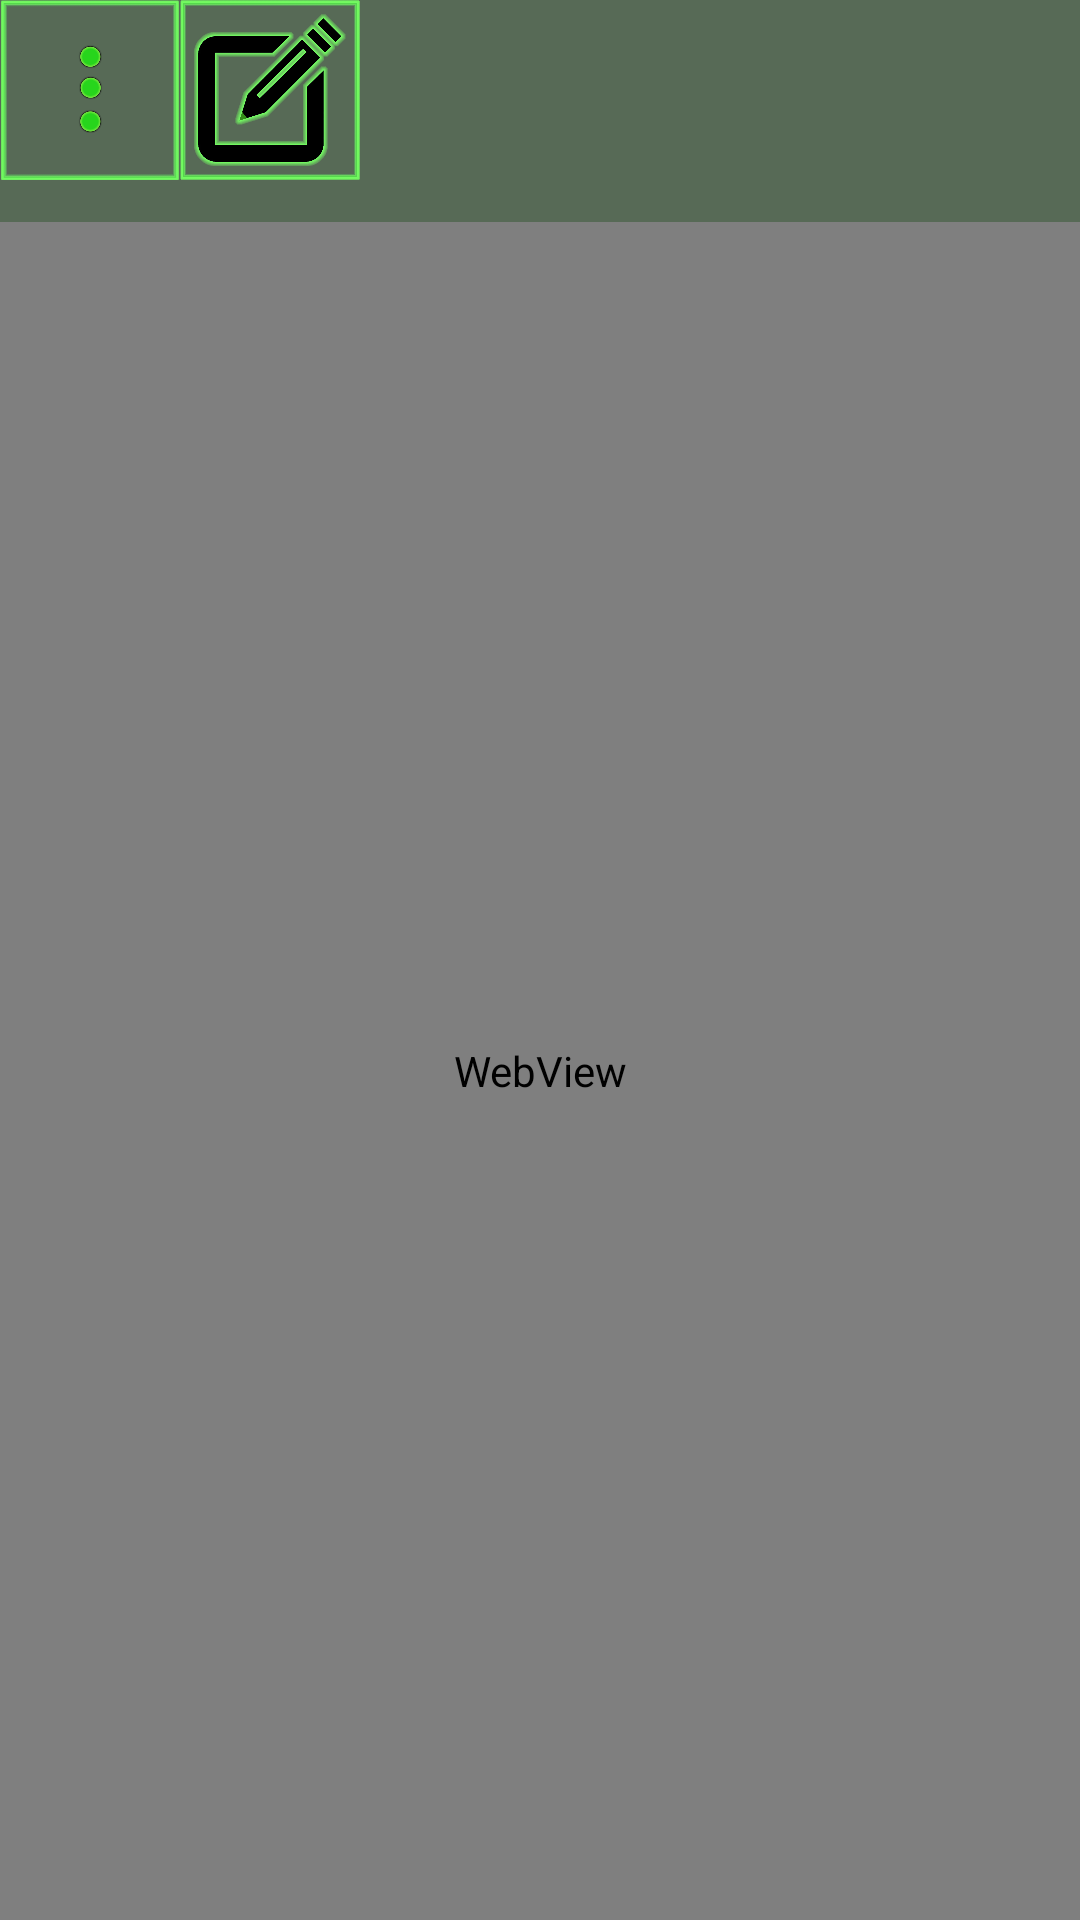

Icons on this 1080 x 1920 Android screen, each with the point to tap as (x,y):
menu: (90,90)
